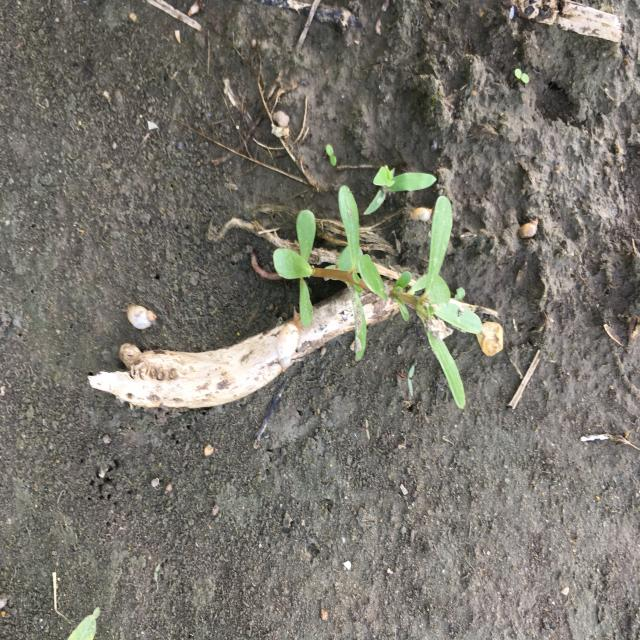Purslane: (272, 184, 484, 410)
